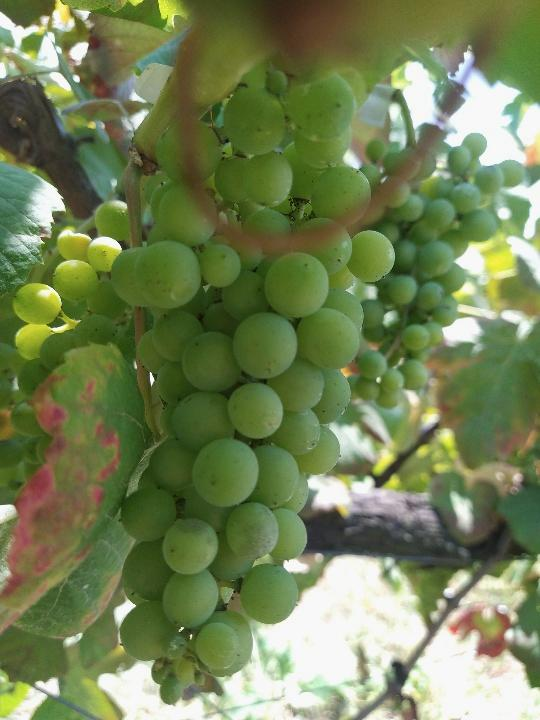grape: (104, 69, 400, 712)
